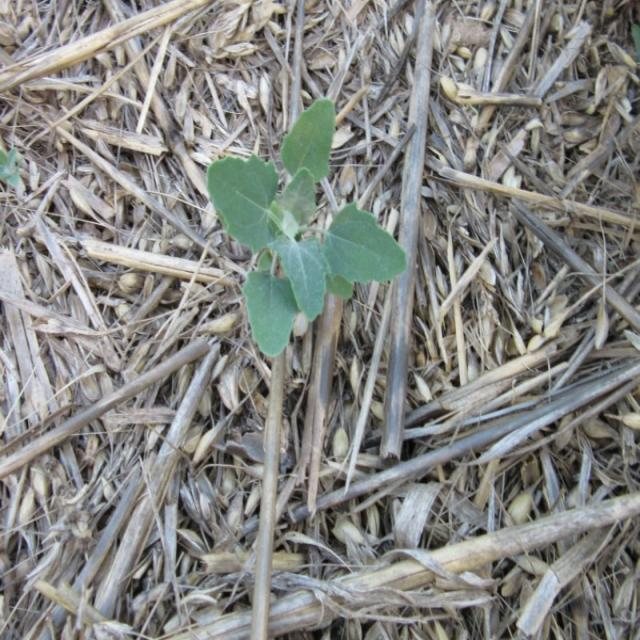ca: (209, 102, 408, 356)
